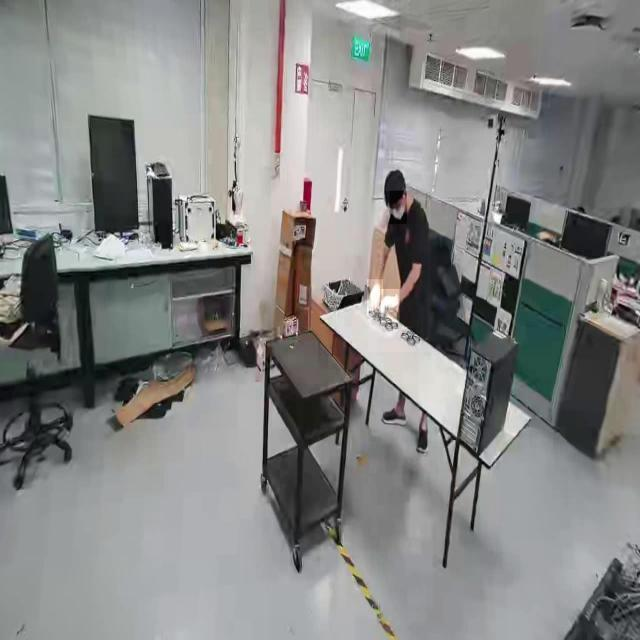boots: (380, 405, 408, 430), (416, 420, 430, 459)
gloves: (366, 279, 384, 317), (381, 288, 400, 324)
